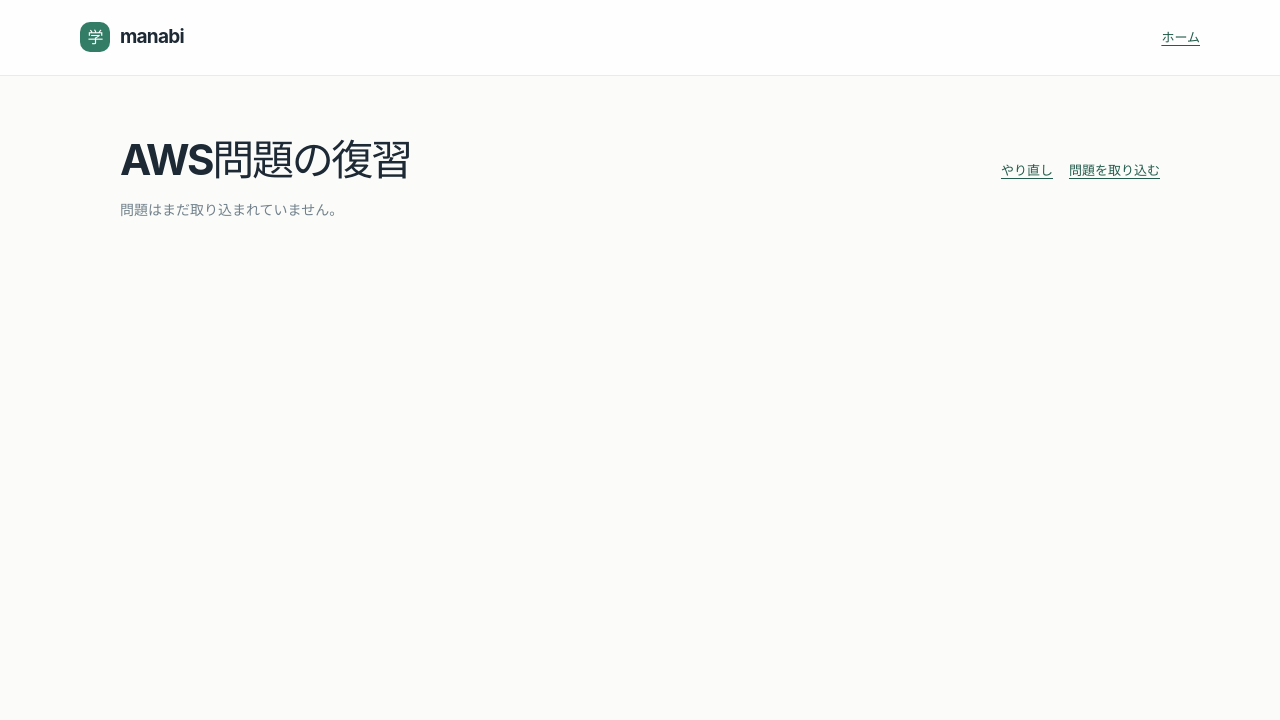
Scenario: AWS問題の取り込みと表示 › 未取り込みの復習画面から、空の編集可能なJSON入力欄を開ける
Click the link "問題を取り込む": [1114, 170] box [1069,160,1160,181]
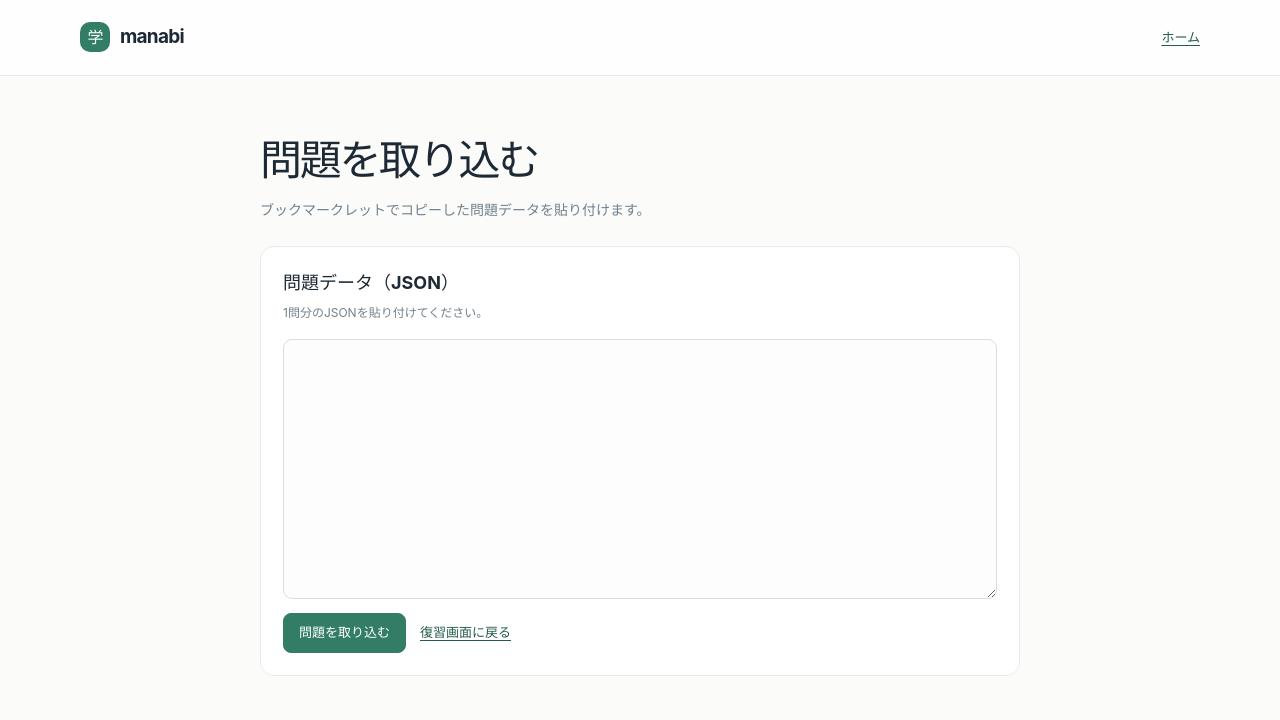
Expected: the text box labelled "問題データ（JSON）" is empty, [283,339,997,599]
Expected: the heading "問題を取り込む" is shown, [260,134,538,185]
